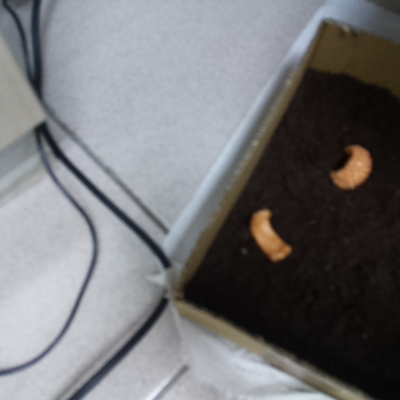eggs: (242, 204, 296, 266), (326, 139, 377, 192)
